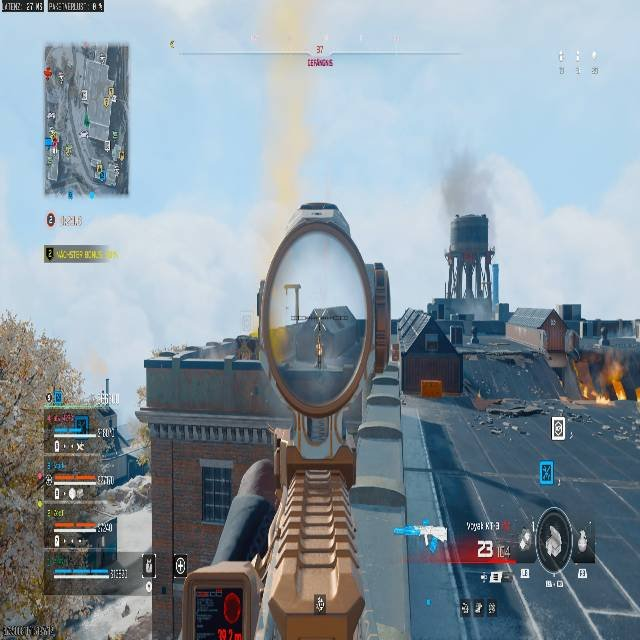player: (136, 383, 146, 408), (470, 325, 479, 344)
